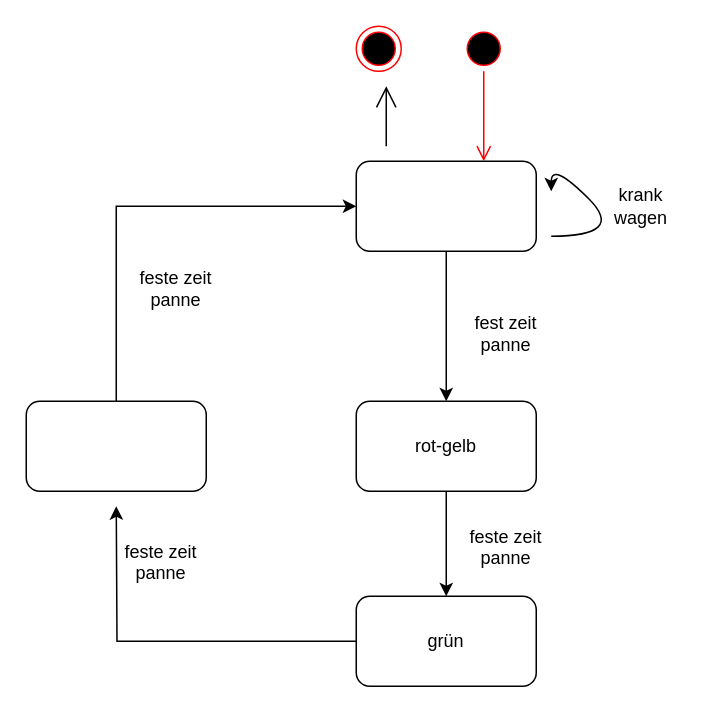
Image size: 713x713. Some labels were removed from this diagram. Each missing label, with the centre of its shape:
"gelb" goes at point 115,445.
"Rot" goes at point 445,205.
